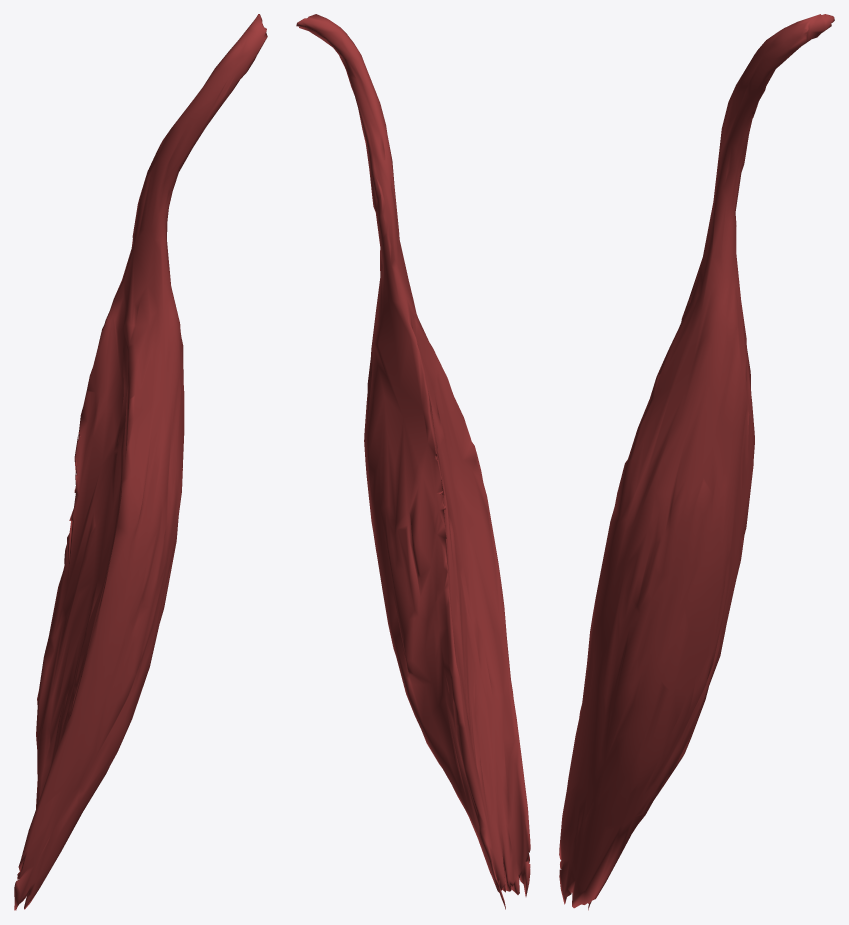
File: short-head-of-biceps-brachii-r.glb
3 views of the same model, side by side, from view 1: azimuth 30°, elevation 25°; view 2: azimuth 150°, elevation 25°; view 3: azimuth 330°, elevation 25° (orthographic). The views are drawn at different scales.
Parts seen in each view (by area): view 1: Short head of biceps brachii.r; view 2: Short head of biceps brachii.r; view 3: Short head of biceps brachii.r.
Boxes of the visible parts, bbox=[...] form: Short head of biceps brachii.r: bbox=[14, 14, 267, 910]; Short head of biceps brachii.r: bbox=[296, 14, 530, 909]; Short head of biceps brachii.r: bbox=[559, 14, 834, 910].
Size of the model in its own units: 0.0815 by 0.2731 by 0.0344.
